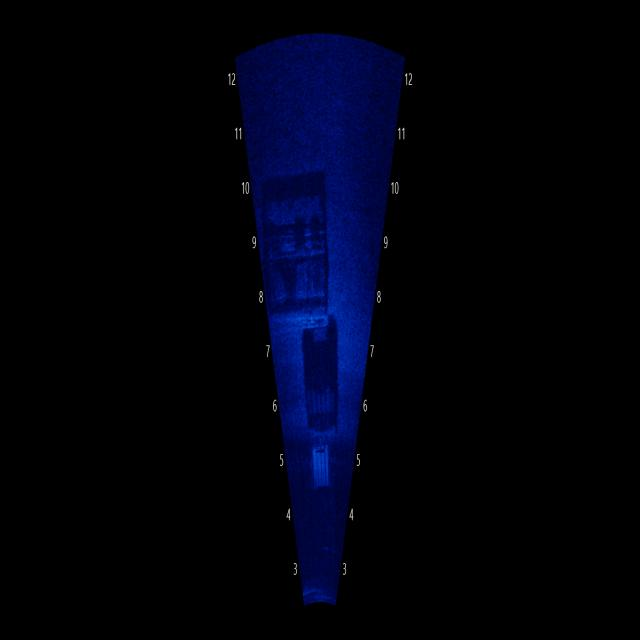square: (255, 139, 336, 318), (306, 424, 341, 510)
